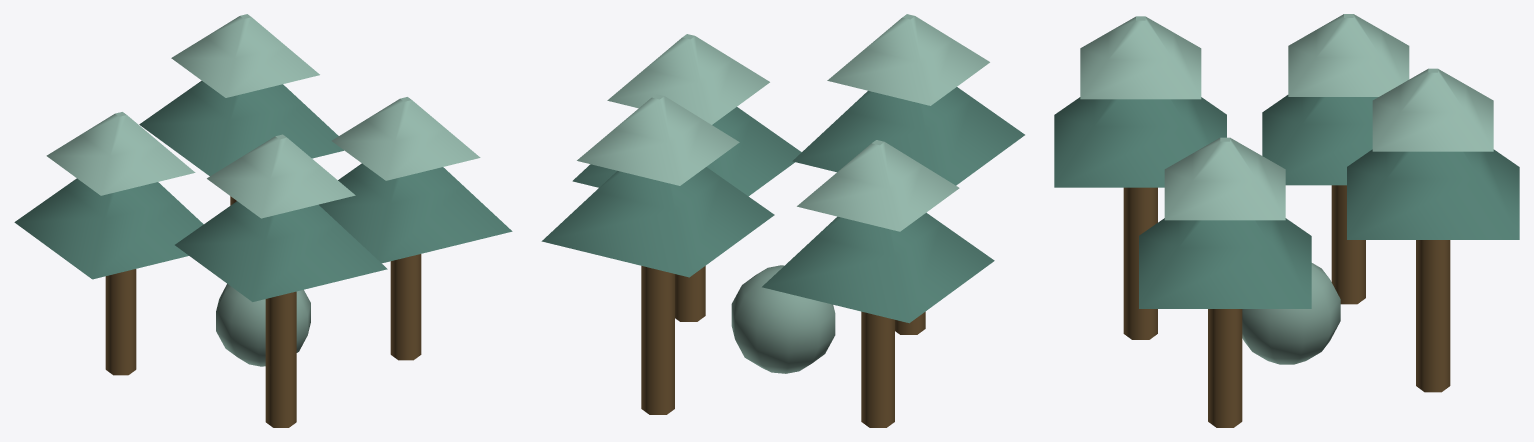
File: feature_spirit_forest.glb
3 views of the same model, side by side, from view 1: azimuth 30°, elevation 25°; view 2: azimuth 150°, elevation 25°; view 3: azimuth 270°, elevation 25° (orthographic). The views are drawn at different scales.
Visible parts, largest first — view 1: _MeshInstance3D_266, _MeshInstance3D_269, _MeshInstance3D_263, _MeshInstance3D_272, _MeshInstance3D_267, _MeshInstance3D_264, _MeshInstance3D_270, _MeshInstance3D_273, _MeshInstance3D_265, _MeshInstance3D_274, _MeshInstance3D_262, _MeshInstance3D_268; view 2: _MeshInstance3D_269, _MeshInstance3D_272, _MeshInstance3D_266, _MeshInstance3D_267, _MeshInstance3D_270, _MeshInstance3D_273, _MeshInstance3D_274, _MeshInstance3D_264, _MeshInstance3D_263, _MeshInstance3D_271, _MeshInstance3D_268, _MeshInstance3D_262 (+1 smaller); view 3: _MeshInstance3D_263, _MeshInstance3D_272, _MeshInstance3D_266, _MeshInstance3D_269, _MeshInstance3D_267, _MeshInstance3D_264, _MeshInstance3D_273, _MeshInstance3D_270, _MeshInstance3D_274, _MeshInstance3D_271, _MeshInstance3D_262, _MeshInstance3D_265 (+1 smaller).
Part boxes in pixels (x1,y1,x2,y2): _MeshInstance3D_266: [175, 201, 387, 301]; _MeshInstance3D_269: [14, 178, 203, 279]; _MeshInstance3D_263: [319, 163, 512, 263]; _MeshInstance3D_272: [139, 80, 343, 175]; _MeshInstance3D_267: [207, 134, 355, 218]; _MeshInstance3D_264: [331, 97, 480, 180]; _MeshInstance3D_270: [46, 112, 195, 195]; _MeshInstance3D_273: [171, 14, 319, 97]; _MeshInstance3D_265: [265, 291, 296, 427]; _MeshInstance3D_274: [216, 284, 310, 366]; _MeshInstance3D_262: [390, 254, 421, 360]; _MeshInstance3D_268: [105, 269, 136, 375]; _MeshInstance3D_269: [762, 212, 994, 323]; _MeshInstance3D_272: [541, 167, 774, 277]; _MeshInstance3D_266: [792, 87, 1024, 185]; _MeshInstance3D_267: [827, 14, 989, 105]; _MeshInstance3D_270: [797, 140, 959, 231]; _MeshInstance3D_273: [577, 94, 739, 185]; _MeshInstance3D_274: [731, 265, 835, 373]; _MeshInstance3D_264: [607, 34, 769, 124]; _MeshInstance3D_263: [572, 107, 801, 196]; _MeshInstance3D_271: [641, 266, 674, 414]; _MeshInstance3D_268: [861, 311, 894, 427]; _MeshInstance3D_262: [675, 266, 705, 321]; _MeshInstance3D_263: [1139, 218, 1311, 308]; _MeshInstance3D_272: [1347, 149, 1519, 239]; _MeshInstance3D_266: [1054, 97, 1226, 187]; _MeshInstance3D_269: [1262, 95, 1378, 185]; _MeshInstance3D_267: [1080, 16, 1201, 99]; _MeshInstance3D_264: [1164, 137, 1285, 220]; _MeshInstance3D_273: [1372, 68, 1493, 151]; _MeshInstance3D_270: [1288, 14, 1409, 96]; _MeshInstance3D_274: [1242, 263, 1340, 364]; _MeshInstance3D_271: [1416, 240, 1450, 392]; _MeshInstance3D_262: [1208, 309, 1242, 427]; _MeshInstance3D_265: [1123, 187, 1157, 339].
Size of the model in its own units: 0.7618 by 0.57 by 0.7618.
